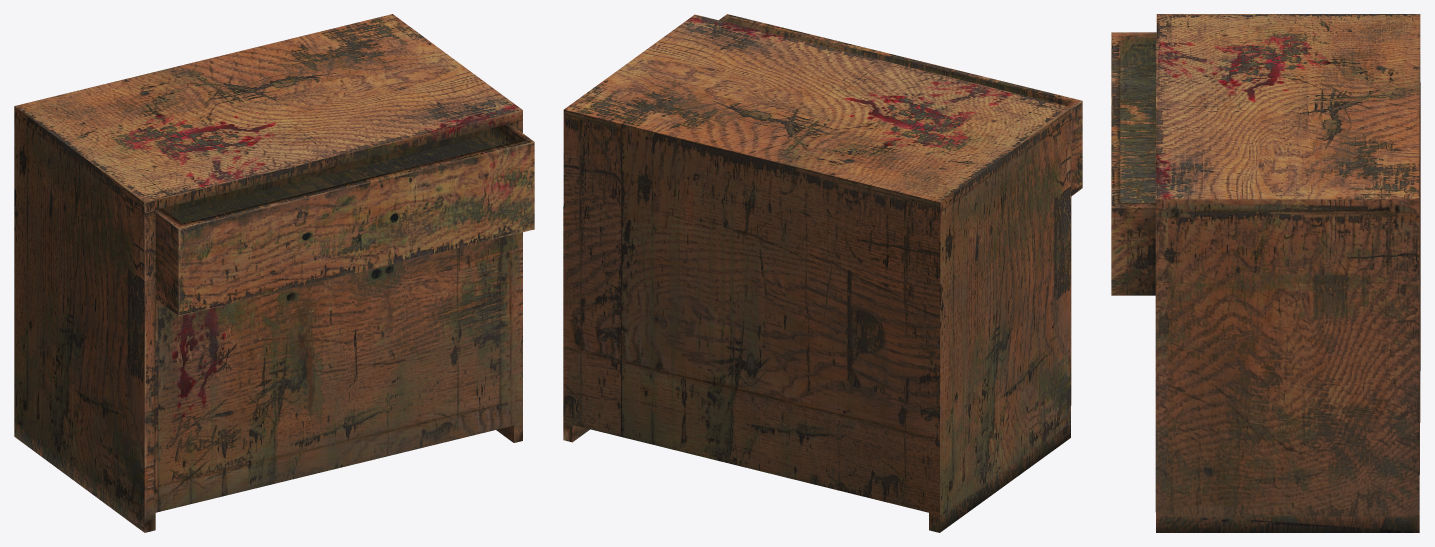
3 renders of one model, left to right at view 1: azimuth 30°, elevation 25°; view 2: azimuth 150°, elevation 25°; view 3: azimuth 270°, elevation 25°, orthographic.
Visible parts, largest first — view 1: polySurface1695; view 2: polySurface1695; view 3: polySurface1695.
Boxes of the visible parts, x1,y1,x2,y2 form: polySurface1695: (14, 14, 534, 532); polySurface1695: (563, 14, 1082, 532); polySurface1695: (1111, 14, 1420, 532).
Size of the model in its own units: 3.67 by 3.07 by 2.58.
1 material, 1 textured.
